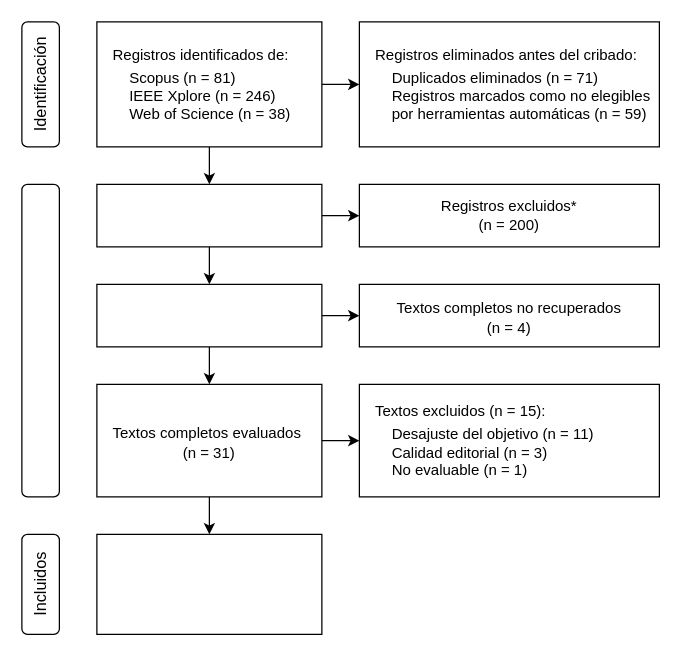
This 681x656 diagram has some shape labels left out. Here are the shapes that lost their labels. From the top down, the centre of each, then its label:
At (x=209, y=215): "Registros cribados (n = 235)".
At (x=209, y=315): "Textos completos recuperados (n = 35)".
At (x=40, y=340): "Cribado".
At (x=209, y=583): "Estudios incluidos (n = 16)".
